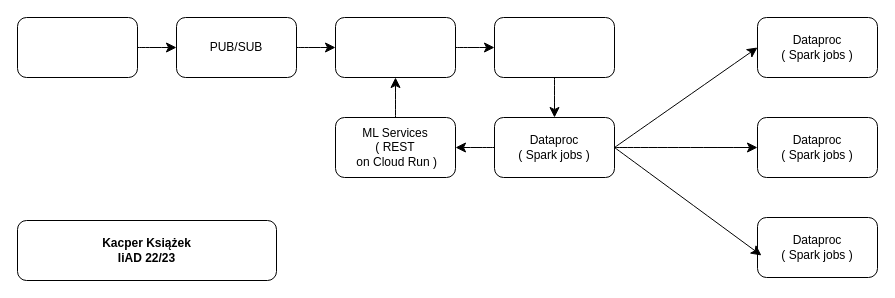
This 895x298 diagram has some shape labels left out. The shapes that lost their labels are listed below. From the top down, each one's centre as x and y in pixels, then its label:
the point at 77,47: App Events
the point at 395,47: Dataflow
the point at 554,47: BigQuery Table
